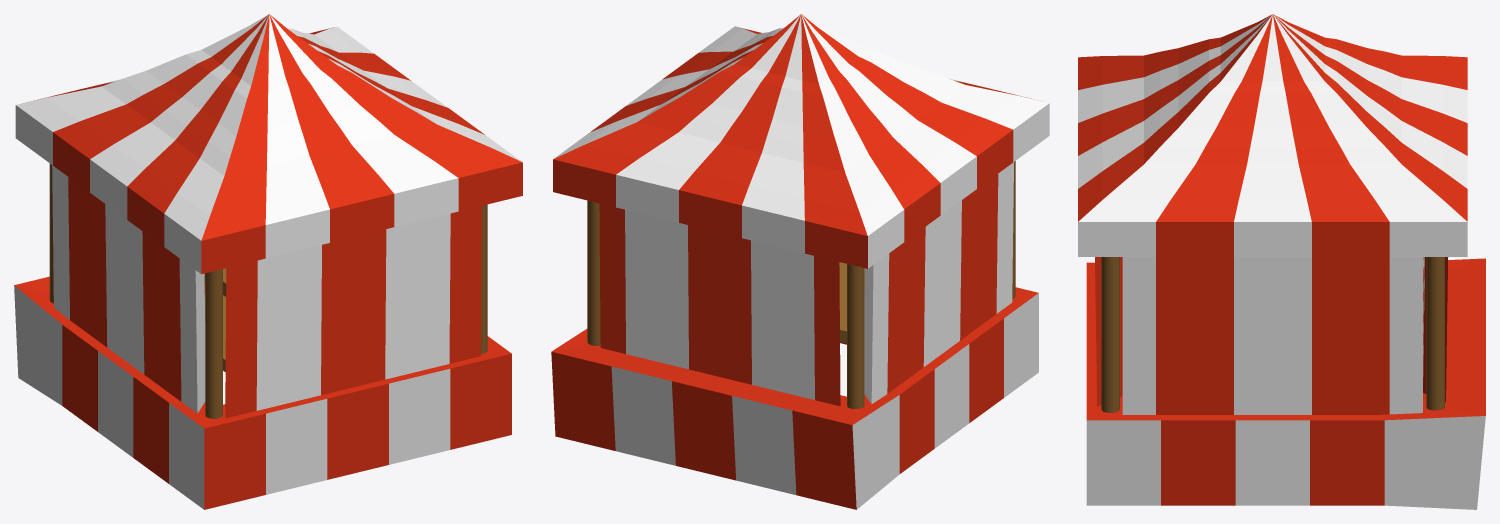
The model's file is juegoBotellas.Cerrado.fbx.
3 views of the same model, side by side, from view 1: azimuth 30°, elevation 25°; view 2: azimuth 150°, elevation 25°; view 3: azimuth 270°, elevation 25° (orthographic). The views are drawn at different scales.
Parts seen in each view (by area): view 1: EstructuraJuegoCerrado; view 2: EstructuraJuegoCerrado; view 3: EstructuraJuegoCerrado.
Part boxes in pixels (box(x1,y1,x2,y2)): EstructuraJuegoCerrado: box(14, 14, 522, 509); EstructuraJuegoCerrado: box(551, 14, 1049, 509); EstructuraJuegoCerrado: box(1078, 14, 1485, 509).
Size of the model in its own units: 340 by 402 by 356.
Materials: 3 (3 with a texture image).
